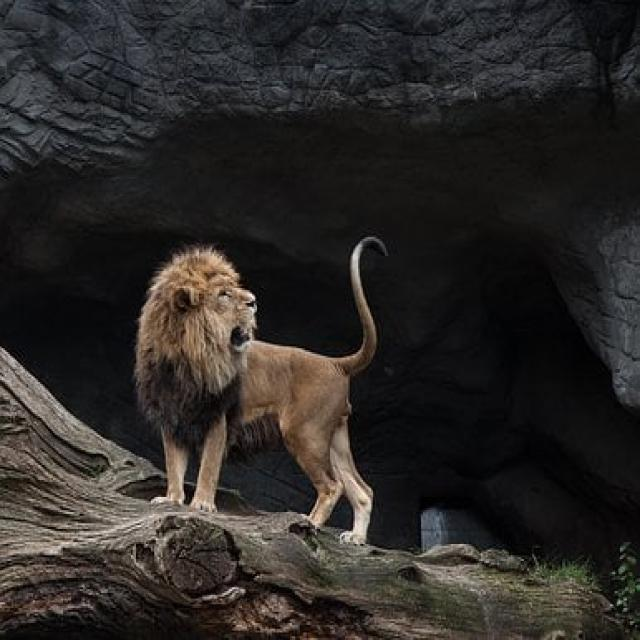Lion: (134, 237, 385, 538)
